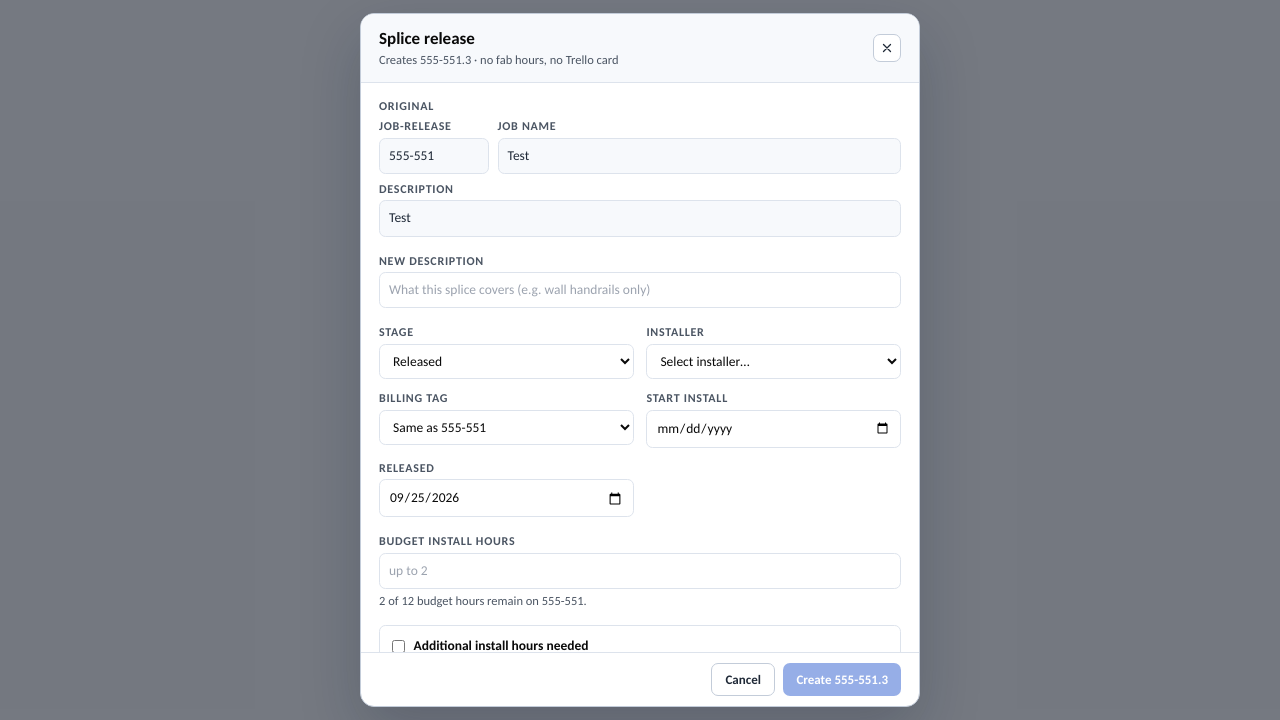
SpliceReleaseModal zero-hour splice › brings the installer requirement back as soon as hours are typed
Type "Level 3 rails" into the field labelled "New description *" at (640, 290), box top-left (379, 272), bottom-right (901, 308)
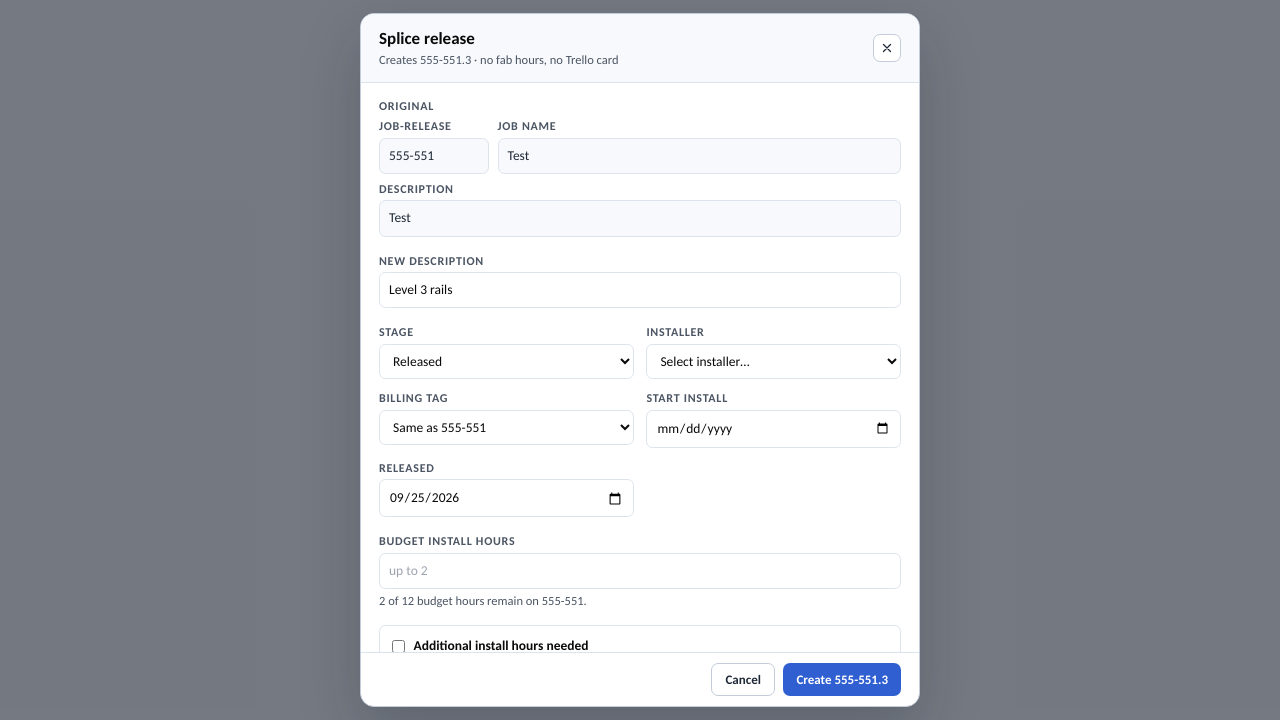
Type "2" into the number field labelled "Budget install hours" at (640, 571), box top-left (379, 553), bottom-right (901, 589)
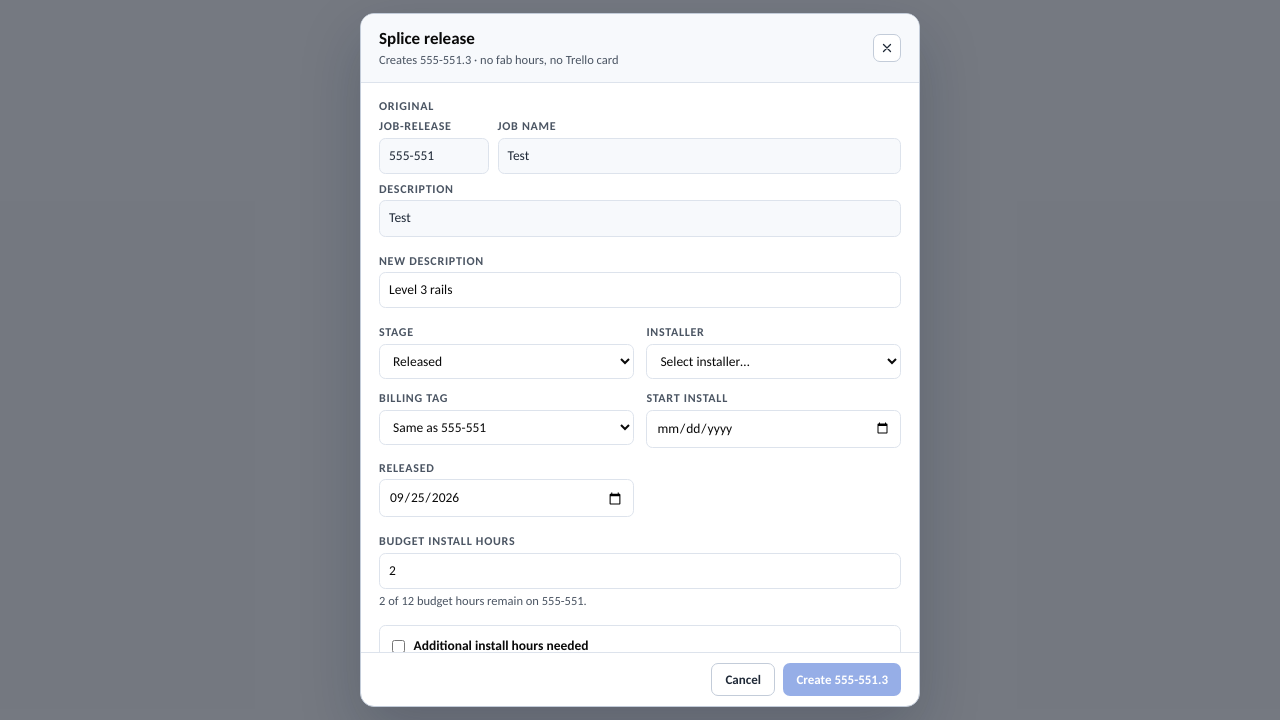
expect the button "Create 555-551.3" is disabled: met, box top-left (783, 663), bottom-right (901, 696)
Select "Saul 1" in the dropdown labelled "Installer *" at (774, 361), box top-left (646, 344), bottom-right (901, 379)
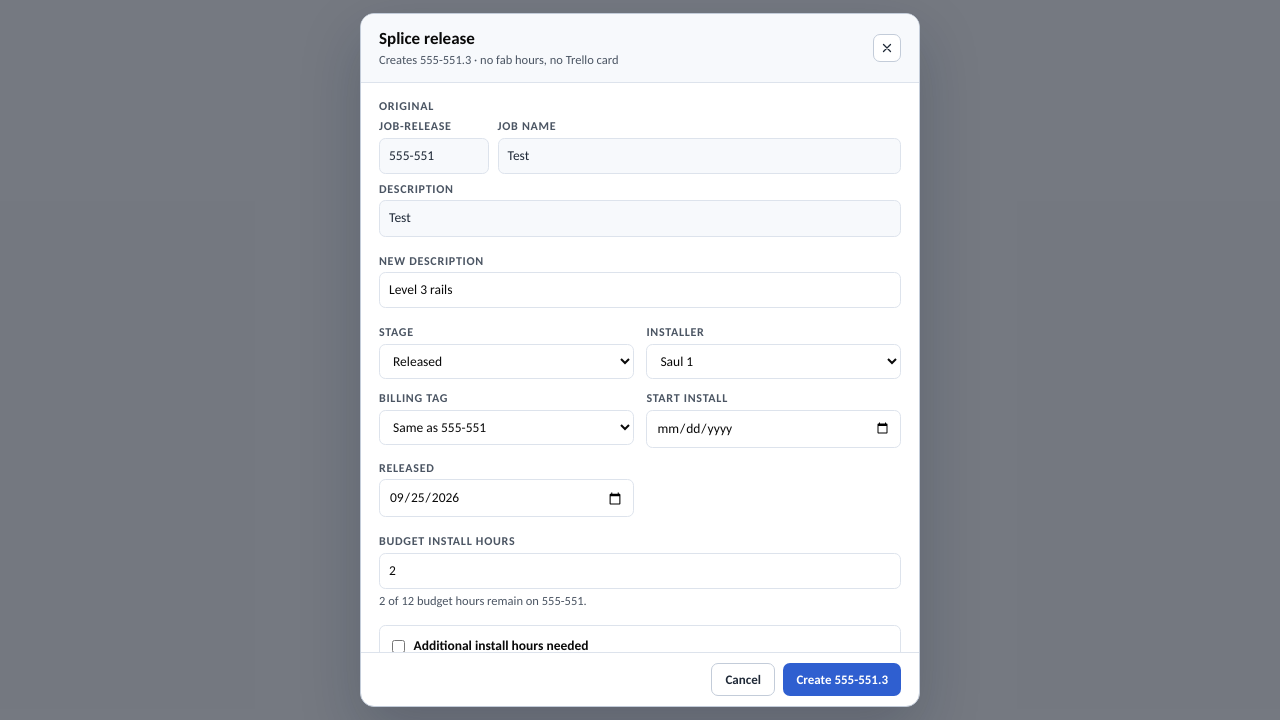
expect the button "Create 555-551.3" is enabled: met, box top-left (783, 663), bottom-right (901, 696)
